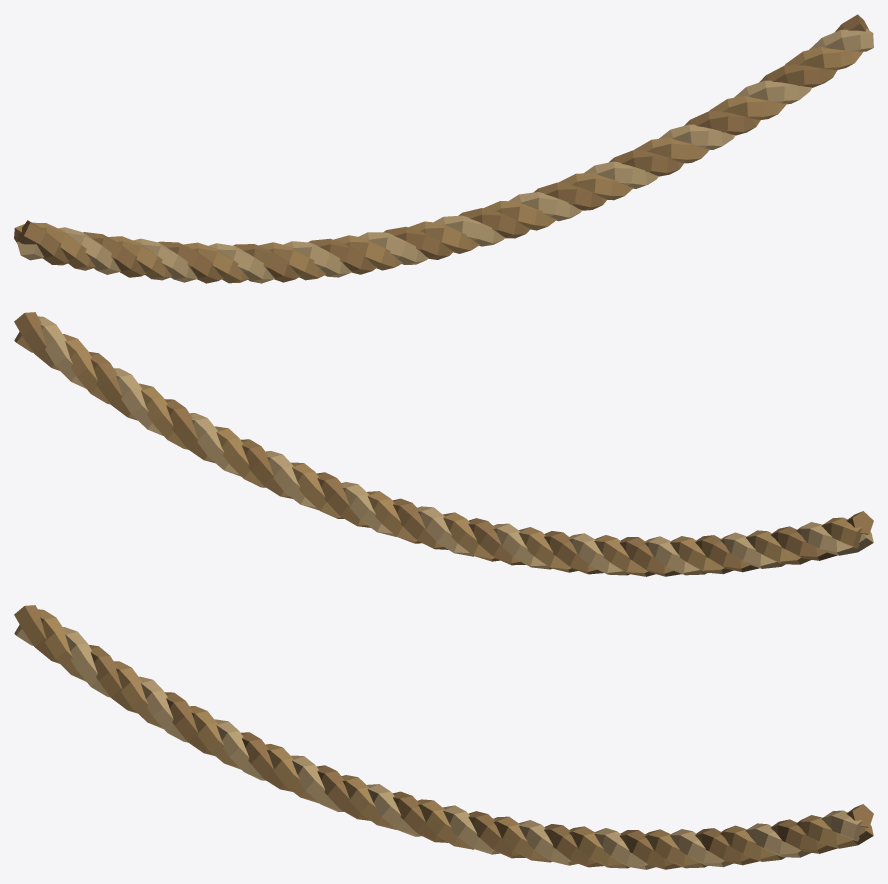
The model's file is mooring_line.glb.
3 views of the same model, one above another, from view 1: azimuth 30°, elevation 25°; view 2: azimuth 150°, elevation 25°; view 3: azimuth 330°, elevation 25° (orthographic).
Visible parts, largest first — view 1: mooring_line; view 2: mooring_line; view 3: mooring_line.
Boxes of the visible parts, x1,y1,x2,y2 form: mooring_line: (14,14,873,283); mooring_line: (14,312,873,576); mooring_line: (14,605,873,869).
Bounding box in the file's own units: 1.02 × 0.1576 × 0.0427.
